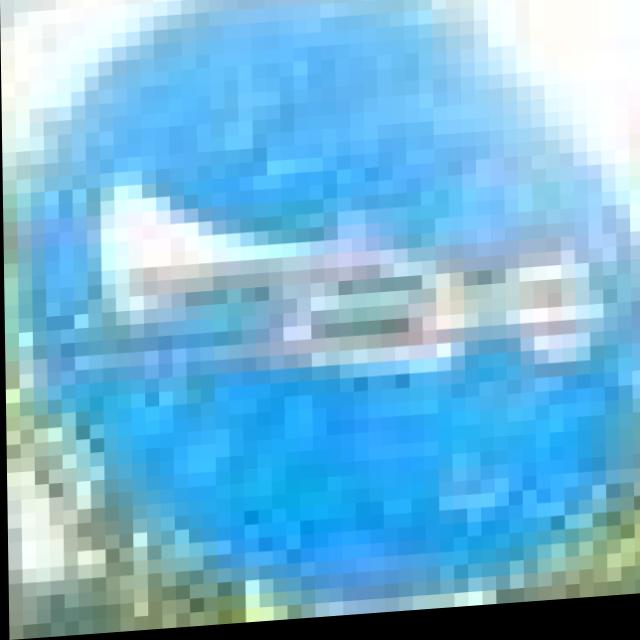COMPULSARY_SOUND_HORN: (19, 0, 625, 604)
